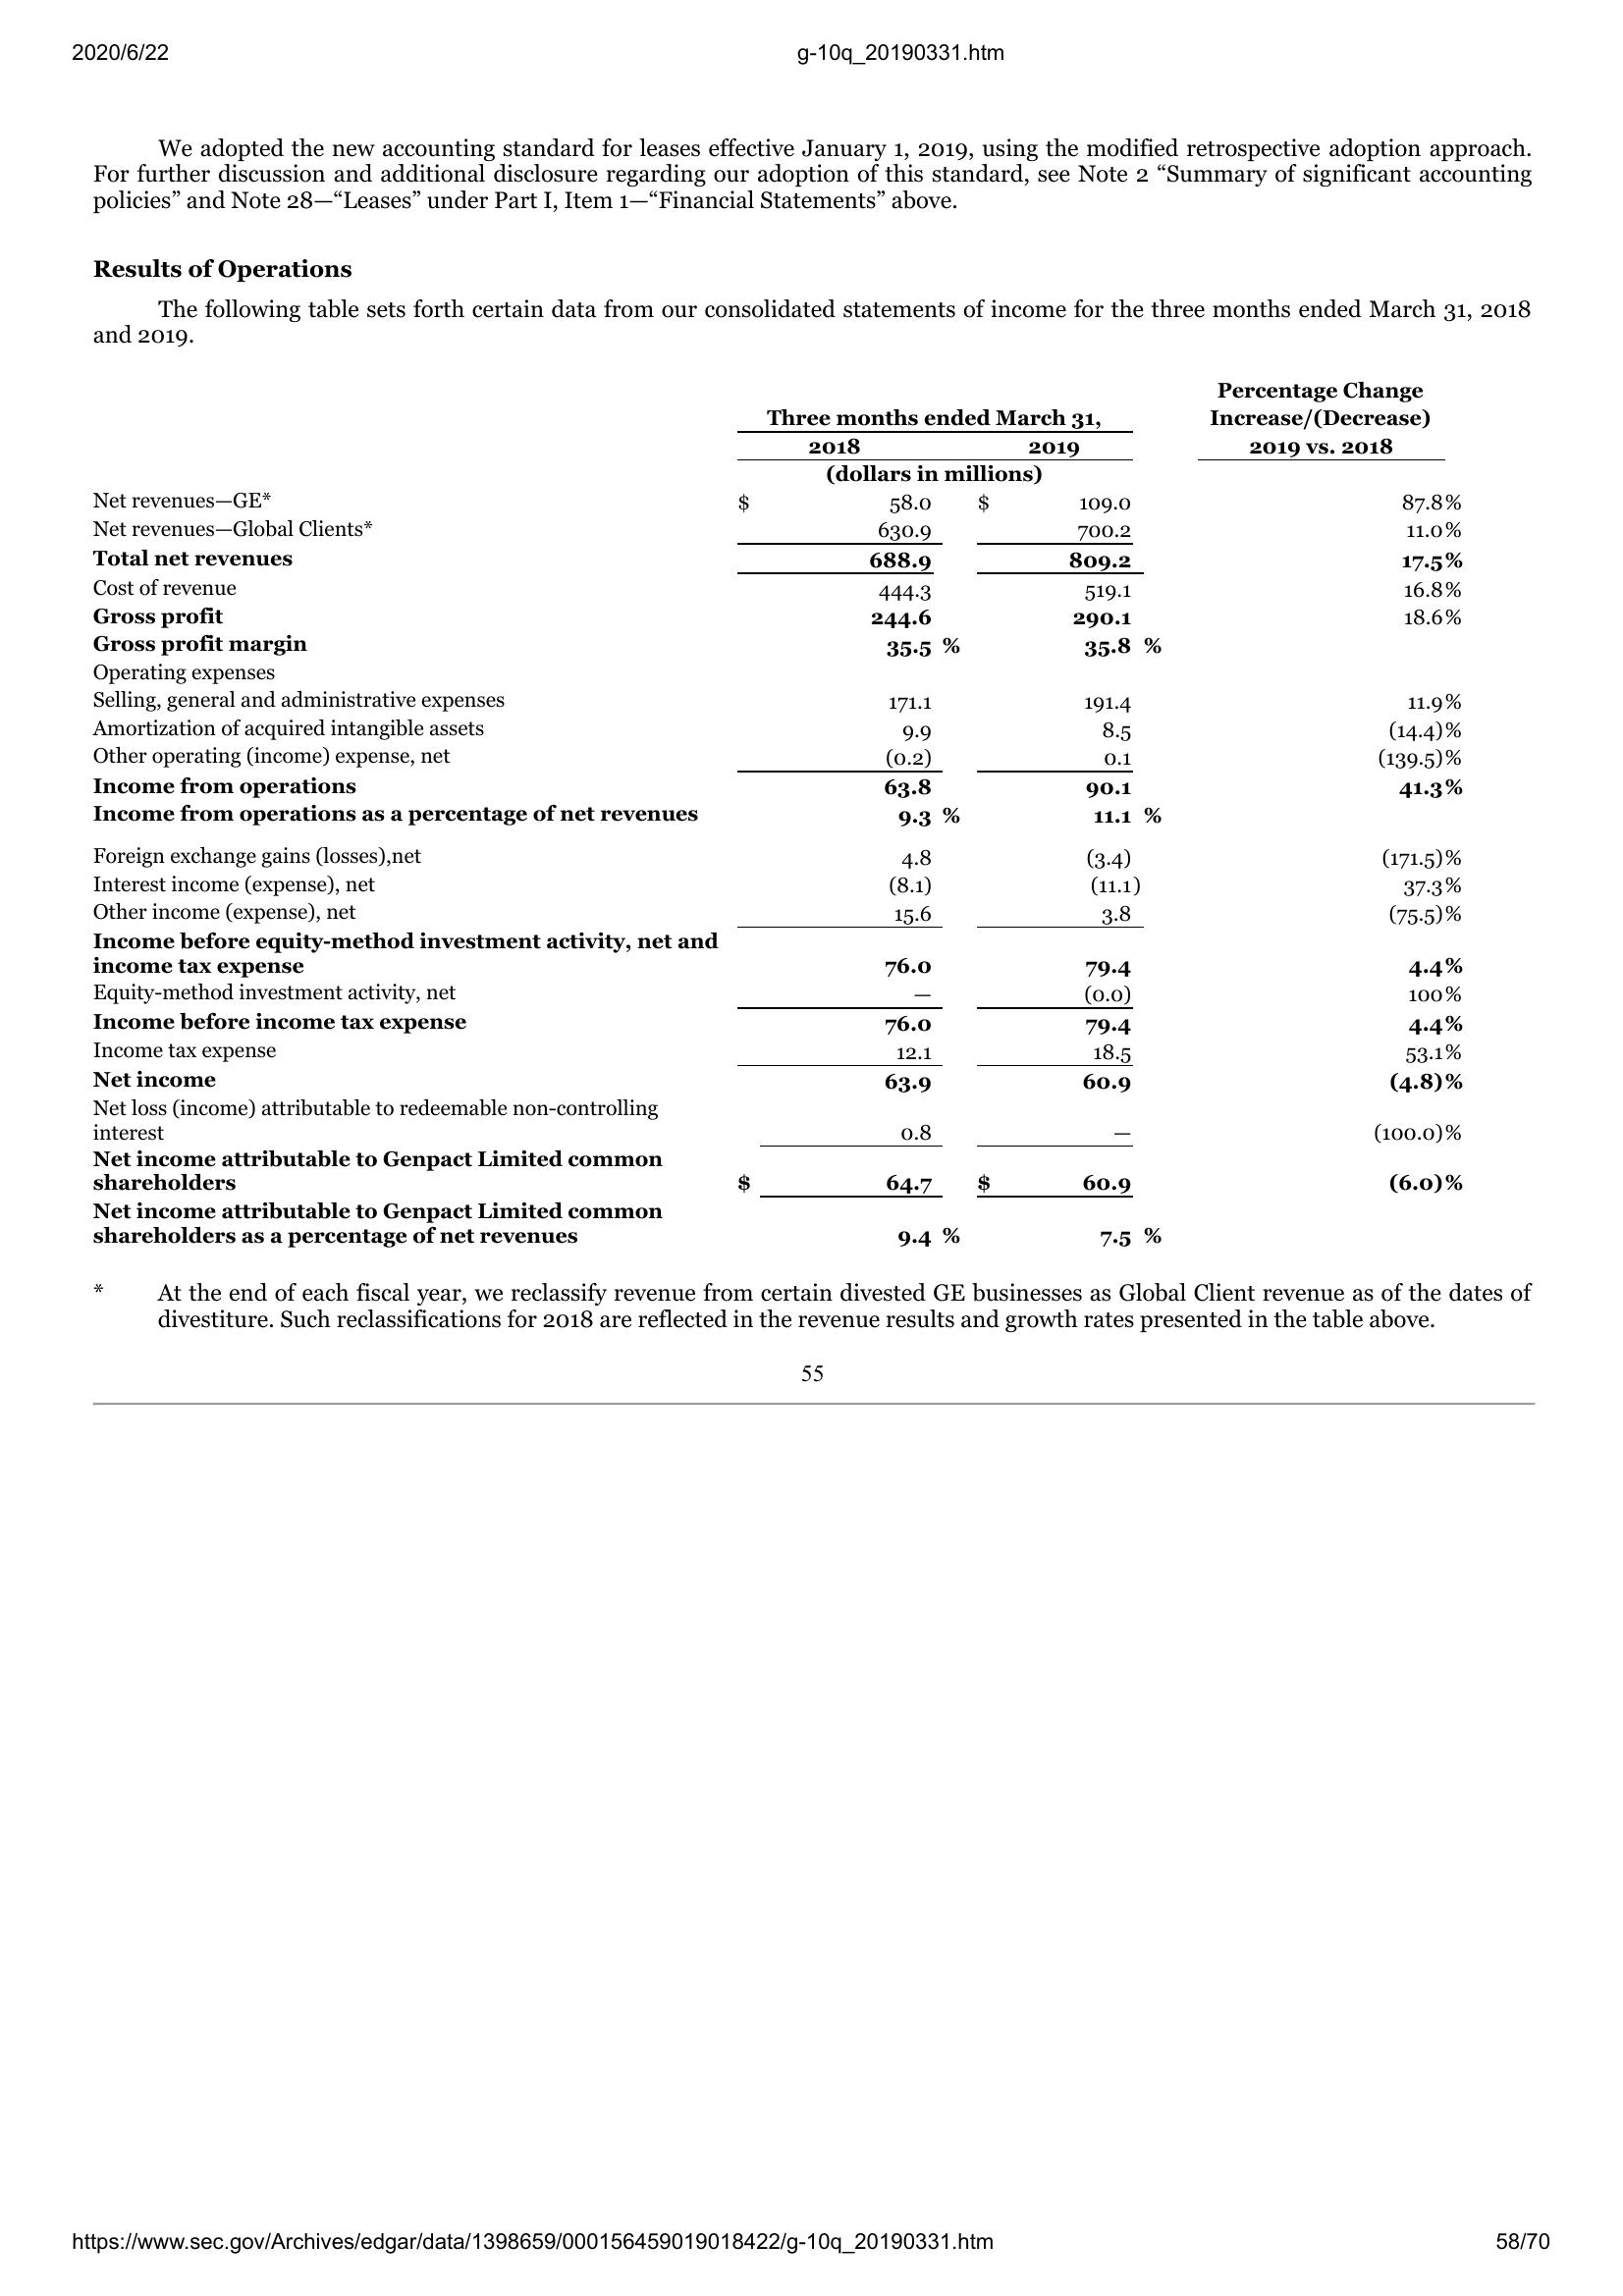table: (88, 374, 1470, 1255)
